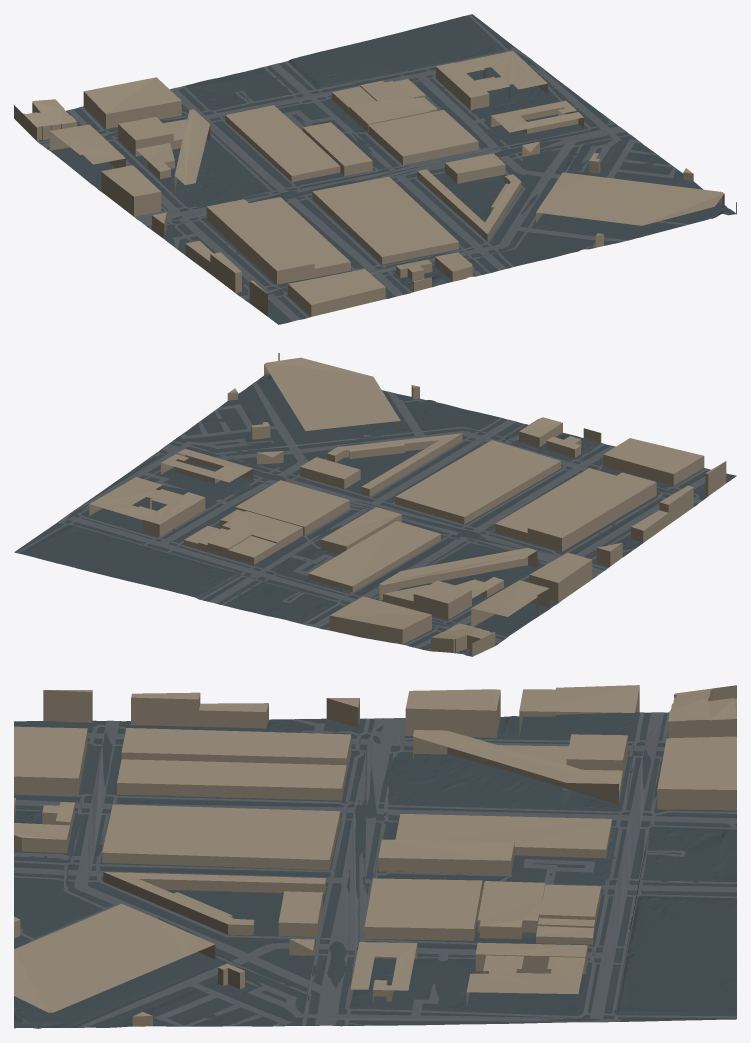
File: epsg26910-1439-10885.lod0.glb
3 renders of one model, top to bottom at view 1: azimuth 30°, elevation 25°; view 2: azimuth 150°, elevation 25°; view 3: azimuth 270°, elevation 25°, orthographic. The views are drawn at different scales.
Visible parts, largest first — view 1: epsg26910-1439-10885-lod0; view 2: epsg26910-1439-10885-lod0; view 3: epsg26910-1439-10885-lod0.
Part boxes in pixels (x1,y1,x2,y2): epsg26910-1439-10885-lod0: (14, 14, 736, 324); epsg26910-1439-10885-lod0: (14, 353, 736, 656); epsg26910-1439-10885-lod0: (14, 685, 736, 1028).
Size of the model in its own units: 384 by 22.44 by 384.
